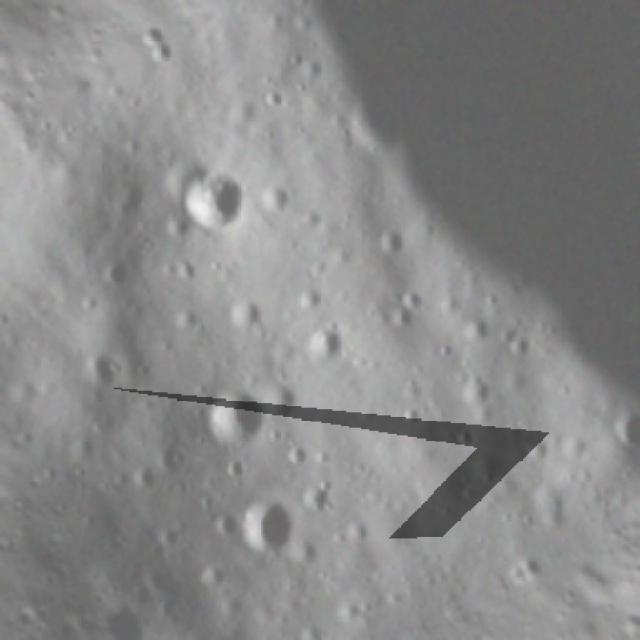crater: (167, 153, 259, 250), (202, 376, 284, 461), (228, 494, 302, 568), (294, 316, 352, 373), (291, 474, 344, 526), (330, 582, 384, 632), (110, 591, 162, 640), (601, 403, 640, 464), (448, 372, 498, 416), (222, 294, 267, 338), (161, 303, 207, 345), (78, 343, 120, 388), (192, 556, 232, 598), (288, 534, 329, 574), (499, 330, 541, 368), (372, 225, 414, 263), (397, 282, 435, 320), (338, 512, 377, 548), (458, 316, 496, 350), (522, 435, 556, 471), (279, 438, 315, 471), (128, 463, 162, 497), (396, 401, 430, 434), (155, 519, 188, 553), (208, 512, 240, 546), (448, 423, 482, 455), (181, 398, 213, 432), (219, 452, 252, 482), (144, 42, 176, 72), (488, 323, 522, 351), (166, 443, 194, 475), (503, 556, 535, 582), (258, 86, 287, 114), (516, 508, 544, 535), (549, 378, 577, 405), (396, 371, 424, 397), (388, 306, 414, 334), (294, 621, 328, 640), (310, 446, 335, 471), (432, 342, 457, 366), (188, 430, 212, 455), (262, 423, 287, 446), (39, 462, 61, 486), (498, 507, 518, 527)
